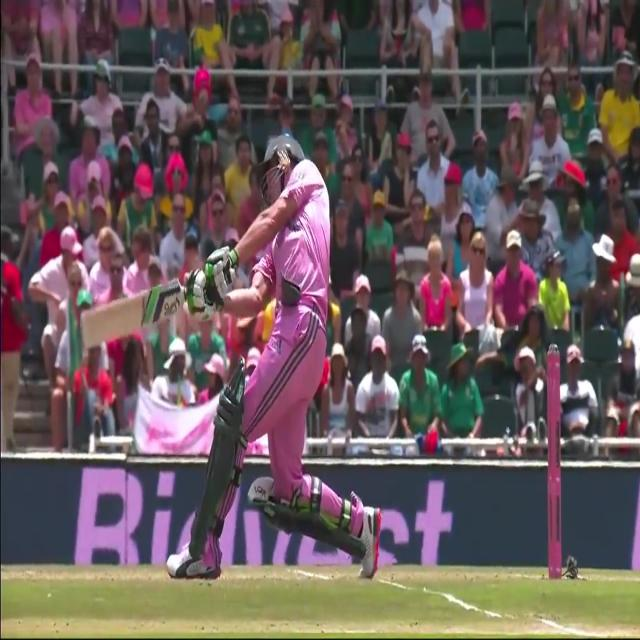Ball: (165, 136, 382, 584)
